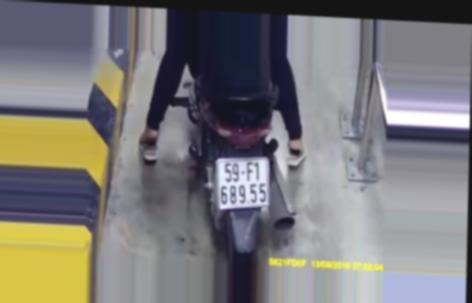License_Plate: (210, 153, 277, 212)
